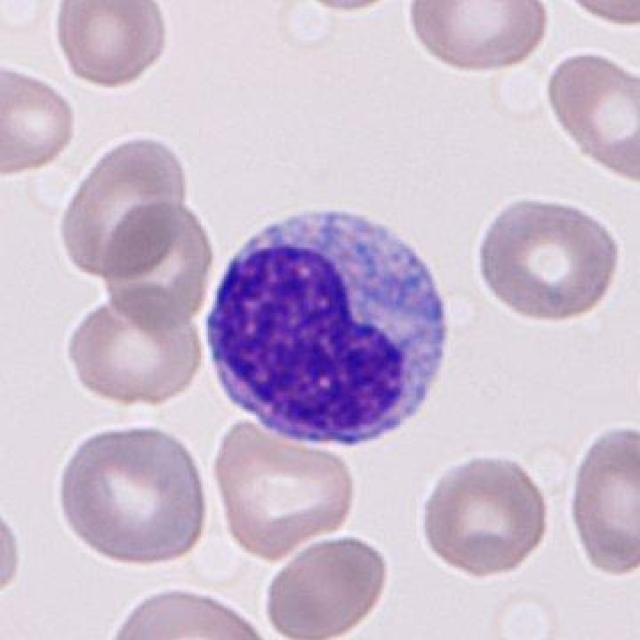RBC: (54, 420, 212, 567), (53, 128, 194, 283), (210, 414, 357, 560), (471, 192, 624, 325), (414, 446, 551, 582), (60, 288, 208, 409), (98, 199, 218, 329), (259, 530, 393, 638), (540, 46, 640, 187), (565, 418, 640, 578), (401, 0, 551, 76), (98, 583, 279, 640), (53, 2, 167, 87), (2, 57, 80, 179), (0, 476, 27, 624), (553, 0, 640, 30), (284, 0, 416, 18), (2, 2, 62, 41)
